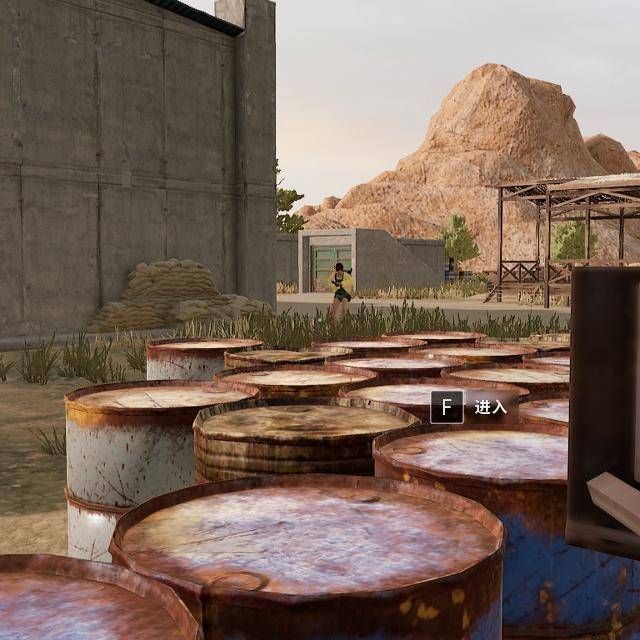head: (333, 261, 346, 276)
people: (326, 261, 355, 330)
